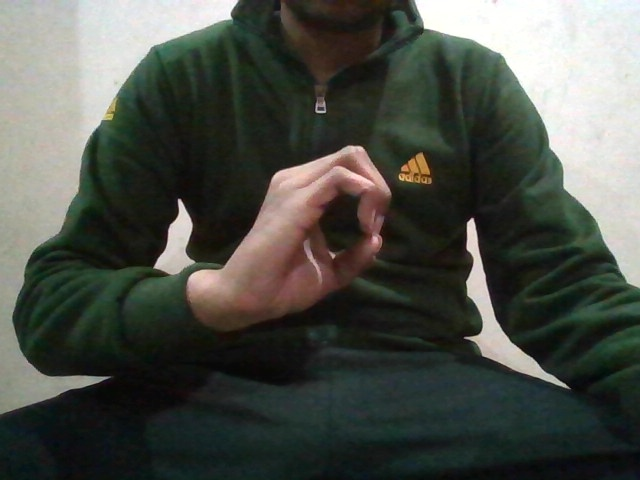O: (256, 141, 382, 308)
